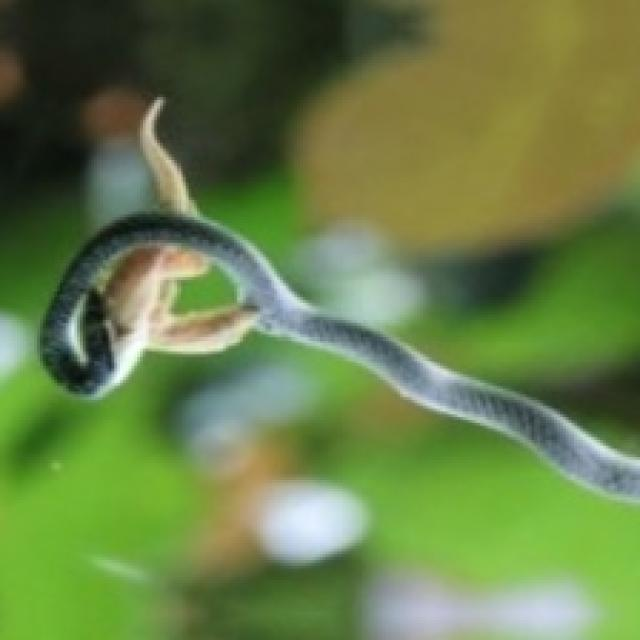paradise tree snake: (40, 97, 637, 500)
